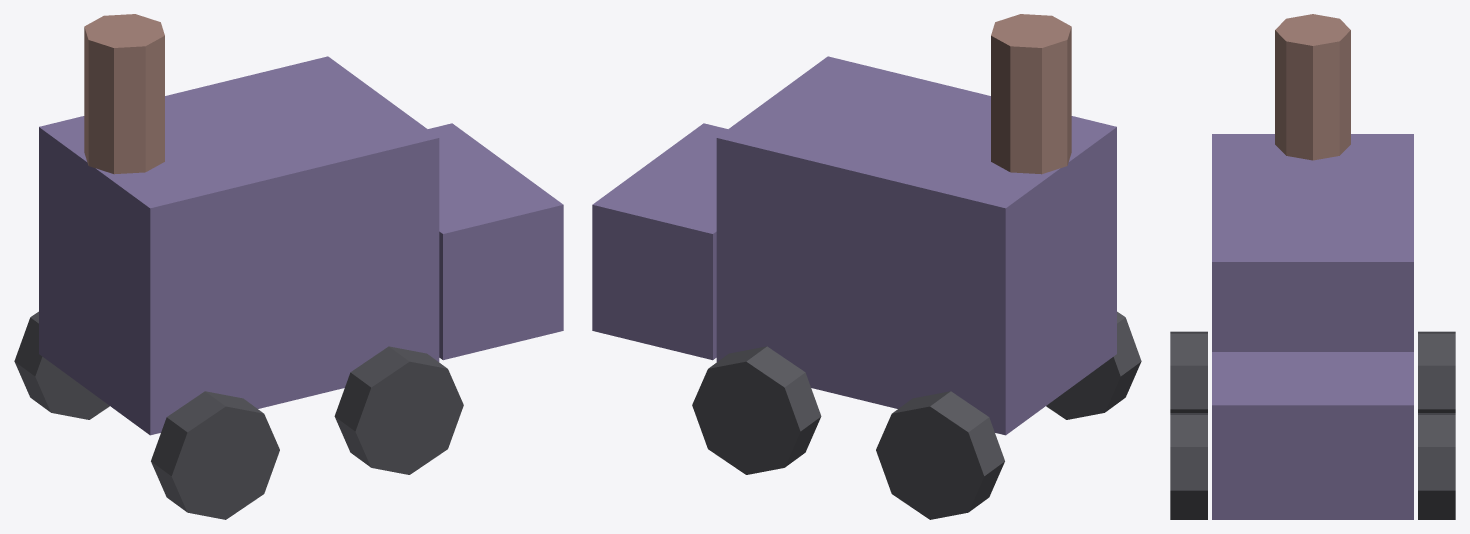
3 views of the same model, side by side, from view 1: azimuth 30°, elevation 25°; view 2: azimuth 150°, elevation 25°; view 3: azimuth 270°, elevation 25° (orthographic). The views are drawn at different scales.
Parts seen in each view (by area): view 1: part0, part1, part2, part5, part6, part3; view 2: part0, part1, part2, part3, part4, part5; view 3: part0, part1, part2, part4, part6, part3, part5.
Boxes of the visible parts, left/top/right/bottom form: part0: left=39, top=56, right=439, bottom=435; part1: left=428, top=123, right=563, bottom=360; part2: left=84, top=14, right=164, bottom=174; part5: left=151, top=391, right=279, bottom=519; part6: left=334, top=346, right=463, bottom=474; part3: left=14, top=311, right=109, bottom=419; part0: left=716, top=56, right=1116, bottom=435; part1: left=592, top=123, right=727, bottom=360; part2: left=991, top=14, right=1071, bottom=174; part3: left=876, top=391, right=1004, bottom=519; part4: left=692, top=346, right=821, bottom=474; part5: left=1046, top=311, right=1141, bottom=419; part0: left=1212, top=134, right=1413, bottom=351; part1: left=1212, top=352, right=1413, bottom=519; part2: left=1275, top=14, right=1350, bottom=160; part4: left=1418, top=413, right=1455, bottom=519; part6: left=1170, top=413, right=1207, bottom=519; part3: left=1418, top=331, right=1455, bottom=412; part5: left=1170, top=331, right=1207, bottom=412.
Size of the model in its own units: 3.48 by 3.46 by 2.26.
